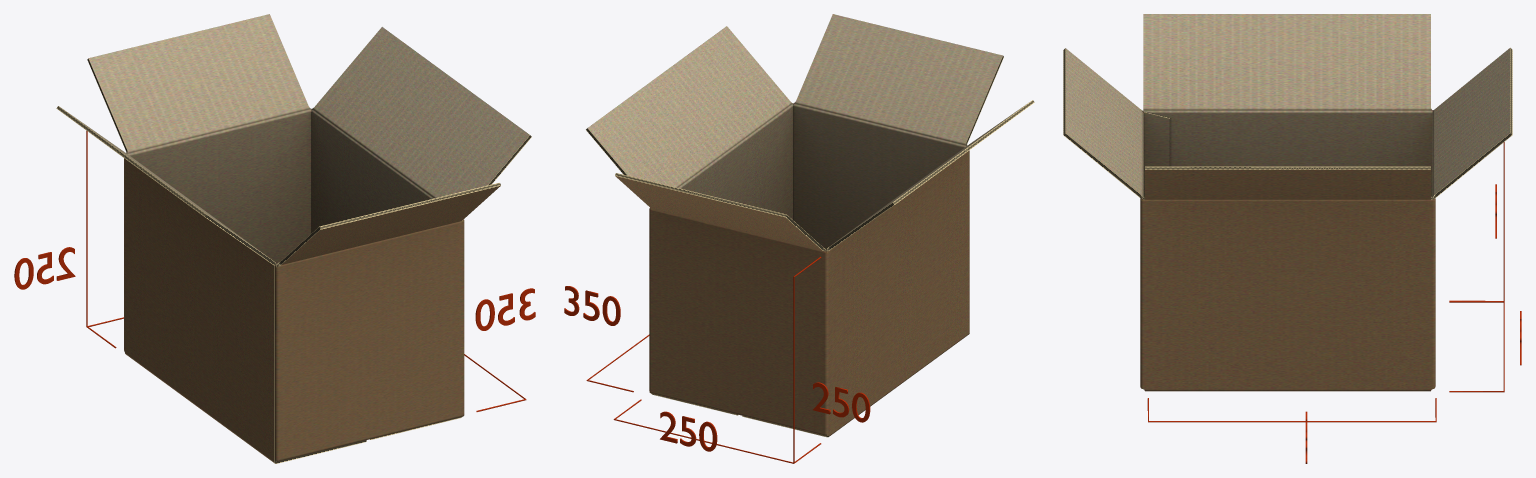
The model's file is 4D BIBLIOTECA.glb.
The picture shows the model from 3 angles, left to right: view 1: azimuth 30°, elevation 25°; view 2: azimuth 150°, elevation 25°; view 3: azimuth 270°, elevation 25°; orthographic projection. The views are drawn at different scales.
Visible parts, largest first — view 1: ARTIOS_ARD-node, Texto.002, Texto.001; view 2: ARTIOS_ARD-node, Texto.001, Texto.002, Texto, Plano.003; view 3: ARTIOS_ARD-node, Plano.002.
Boxes of the visible parts, x1=… form: ARTIOS_ARD-node: x1=56, y1=14, x2=531, y2=463; Texto.002: x1=14, y1=247, x2=75, y2=289; Texto.001: x1=475, y1=288, x2=535, y2=330; ARTIOS_ARD-node: x1=586, y1=14, x2=1034, y2=437; Texto.001: x1=564, y1=286, x2=620, y2=325; Texto.002: x1=813, y1=382, x2=870, y2=422; Texto: x1=660, y1=411, x2=717, y2=451; Plano.003: x1=793, y1=256, x2=821, y2=463; ARTIOS_ARD-node: x1=1063, y1=14, x2=1512, y2=391; Plano.002: x1=1147, y1=398, x2=1436, y2=422.
Size of the model in its own units: 0.5633 by 0.3395 by 0.5483.
Materials: 4 (3 with a texture image).
